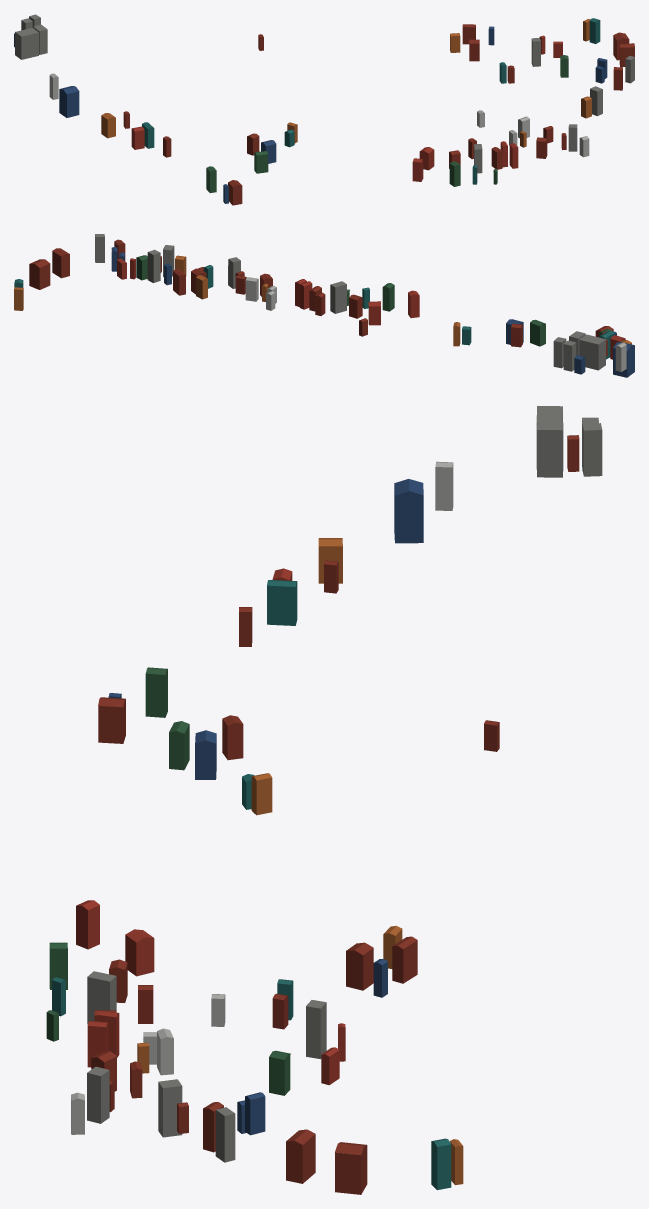
The model's file is near-15-27369-14861.99f994c8.glb.
The picture shows the model from 3 angles, top to bottom: view 1: azimuth 30°, elevation 25°; view 2: azimuth 150°, elevation 25°; view 3: azimuth 270°, elevation 25°; orthographic projection. The views are drawn at different scales.
Bounding box in the file's own units: 571 × 144 × 246.
